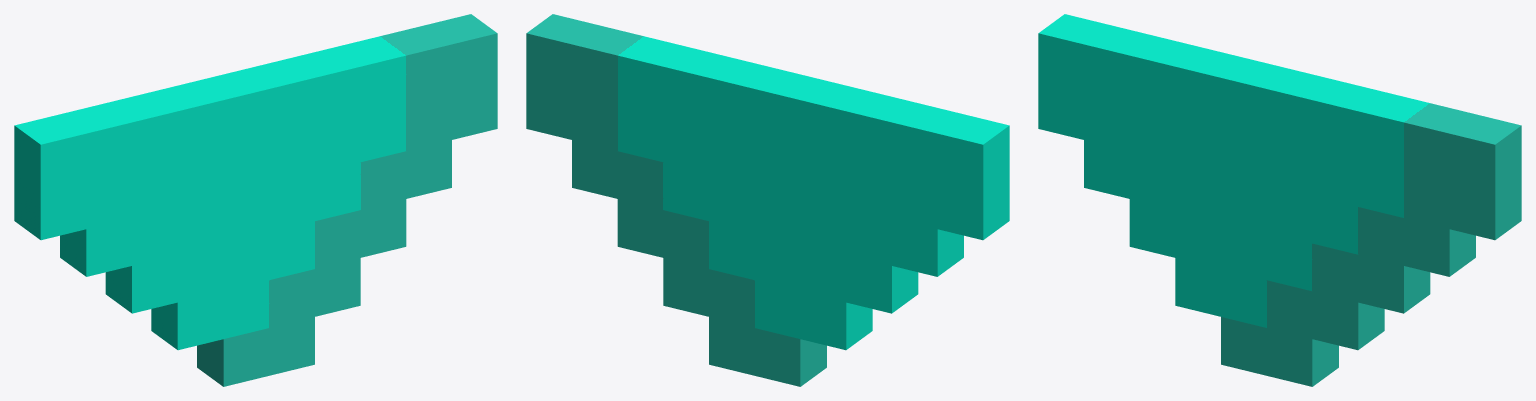
Rendered from Diamond.glb.
The picture shows the model from 3 angles, left to right: view 1: azimuth 30°, elevation 25°; view 2: azimuth 150°, elevation 25°; view 3: azimuth 330°, elevation 25°; orthographic projection.
Parts seen in each view (by area): view 1: diamond; view 2: diamond; view 3: diamond.
Boxes of the visible parts, x1,y1,x2,y2 form: diamond: (14,14,497,386); diamond: (526,14,1009,386); diamond: (1038,14,1521,386).
Size of the model in its own units: 5 by 3 by 0.5.
1 material, 1 textured.
